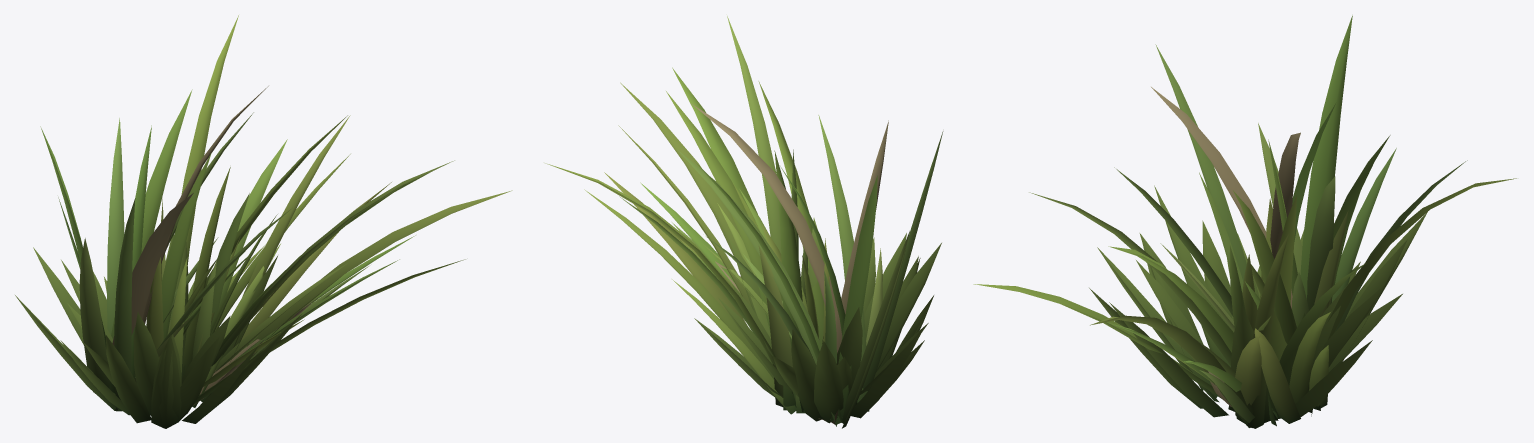
The model's file is eco_grass_tuft_short_LOD1.glb.
3 renders of one model, left to right at view 1: azimuth 30°, elevation 25°; view 2: azimuth 150°, elevation 25°; view 3: azimuth 270°, elevation 25°, orthographic. The views are drawn at different scales.
Parts seen in each view (by area): view 1: eco_grass_tuft_short_LOD1; view 2: eco_grass_tuft_short_LOD1; view 3: eco_grass_tuft_short_LOD1.
Boxes of the visible parts, left/top/right/bottom form: eco_grass_tuft_short_LOD1: left=15, top=15, right=512, bottom=428; eco_grass_tuft_short_LOD1: left=545, top=16, right=943, bottom=428; eco_grass_tuft_short_LOD1: left=973, top=15, right=1516, bottom=428.
Bounding box in the file's own units: 0.3697 × 0.2478 × 0.3549.
